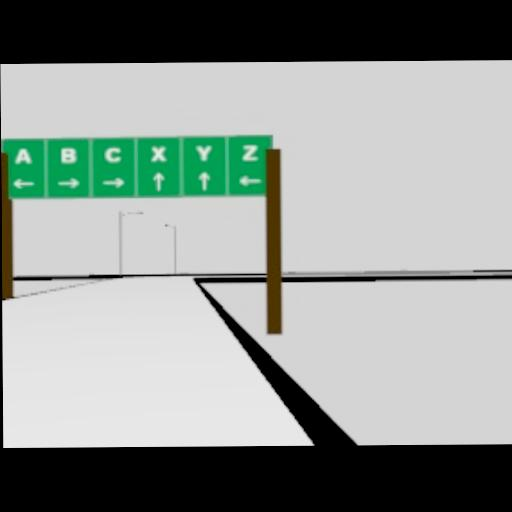A: (13, 148, 31, 164)
B: (60, 147, 76, 164)
C: (104, 145, 120, 163)
Left: (10, 176, 35, 188), (238, 174, 261, 185)
Right: (57, 177, 80, 188), (101, 177, 124, 188)
Straight: (197, 170, 209, 191), (152, 171, 163, 191)
X: (150, 145, 166, 161)
Y: (195, 144, 211, 161)
Z: (241, 144, 257, 160)
